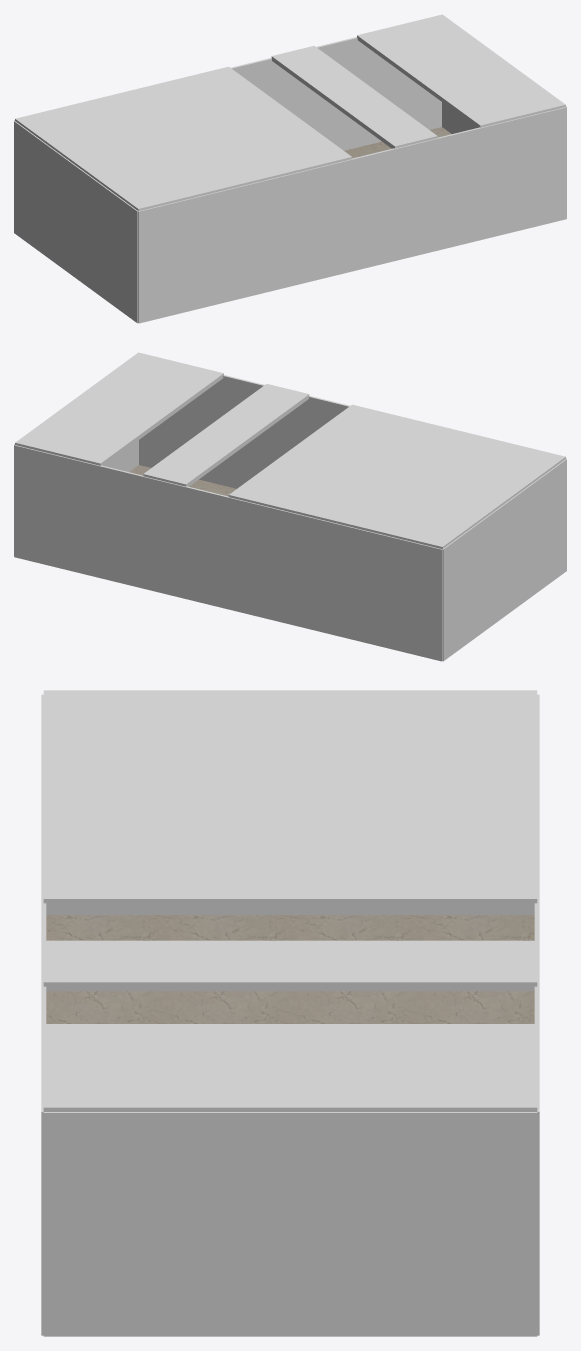
Rendered from marble_map.fbx.
3 renders of one model, top to bottom at view 1: azimuth 30°, elevation 25°; view 2: azimuth 150°, elevation 25°; view 3: azimuth 270°, elevation 25°, orthographic. The views are drawn at different scales.
Visible parts, largest first — view 1: Cube.001, Cube.009, Cube.003, Cube.006, Cube.002, Cube.007, Cube.004, Cube; view 2: Cube.002, Cube.009, Cube.003, Cube.006, Cube.001, Cube.007, Cube.004, Cube; view 3: Cube.004, Cube.009, Cube.006, Cube, Cube.007, Cube.003, Cube.002, Cube.001.
Boxes of the visible parts, left/top/right/bottom form: Cube.001: left=138, top=107, right=566, bottom=323; Cube.009: left=15, top=66, right=352, bottom=211; Cube.003: left=14, top=121, right=138, bottom=323; Cube.006: left=357, top=14, right=565, bottom=127; Cube.002: left=14, top=37, right=441, bottom=150; Cube.007: left=271, top=46, right=437, bottom=148; Cube.004: left=442, top=102, right=566, bottom=218; Cube: left=344, top=127, right=451, bottom=158; Cube.002: left=14, top=445, right=442, bottom=661; Cube.009: left=228, top=404, right=565, bottom=549; Cube.003: left=442, top=459, right=566, bottom=661; Cube.006: left=15, top=352, right=223, bottom=465; Cube.001: left=139, top=375, right=566, bottom=488; Cube.007: left=143, top=384, right=309, bottom=486; Cube.004: left=14, top=440, right=138, bottom=556; Cube: left=129, top=465, right=236, bottom=496; Cube.004: left=43, top=1112, right=537, bottom=1336; Cube.009: left=43, top=690, right=537, bottom=907; Cube.006: left=43, top=1024, right=537, bottom=1111; Cube: left=46, top=915, right=534, bottom=1023; Cube.007: left=43, top=940, right=537, bottom=991; Cube.003: left=46, top=908, right=534, bottom=914; Cube.002: left=534, top=694, right=539, bottom=1335; Cube.001: left=41, top=694, right=46, bottom=1335.
Size of the model in its own units: 2010 by 510 by 1010.
